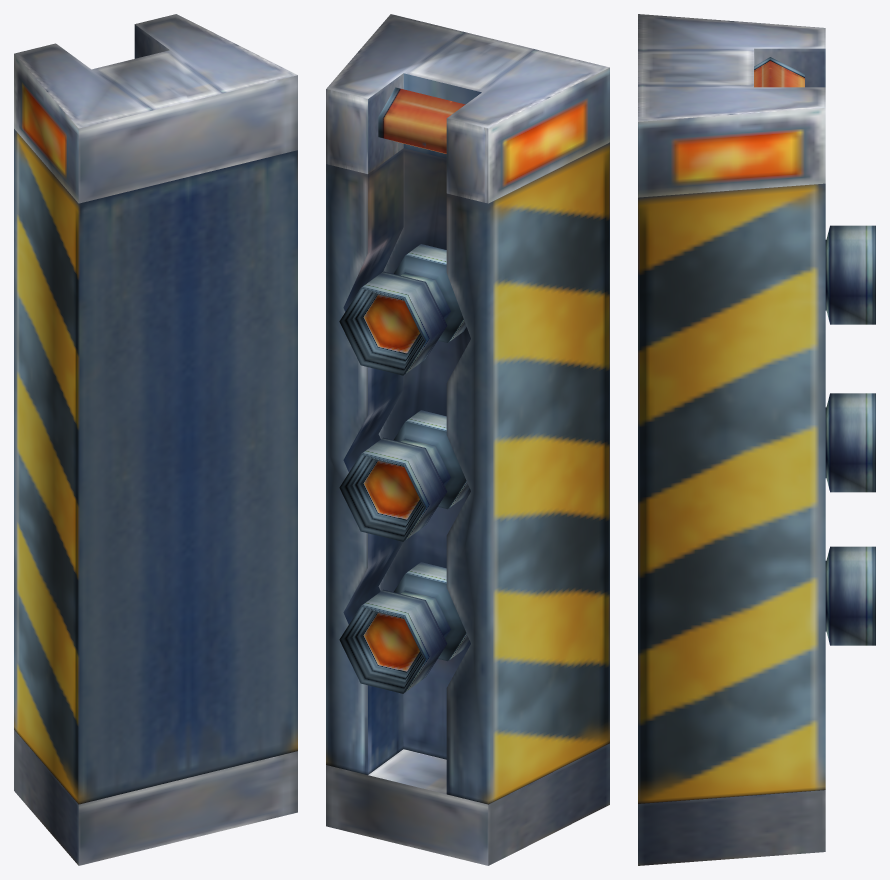
Rendered from a_SWAwire01a.glb.
The picture shows the model from 3 angles, left to right: view 1: azimuth 30°, elevation 25°; view 2: azimuth 150°, elevation 25°; view 3: azimuth 270°, elevation 25°; orthographic projection.
Parts seen in each view (by area): view 1: a_SWAwire01a; view 2: a_SWAwire01a; view 3: a_SWAwire01a.
Part boxes in pixels (left/top/right/bottom): a_SWAwire01a: left=14, top=14, right=297, bottom=865; a_SWAwire01a: left=326, top=14, right=609, bottom=865; a_SWAwire01a: left=638, top=14, right=875, bottom=865.
Size of the model in its own units: 0.4523 by 1.45 by 0.4215.
Materials: 1 (1 with a texture image).
